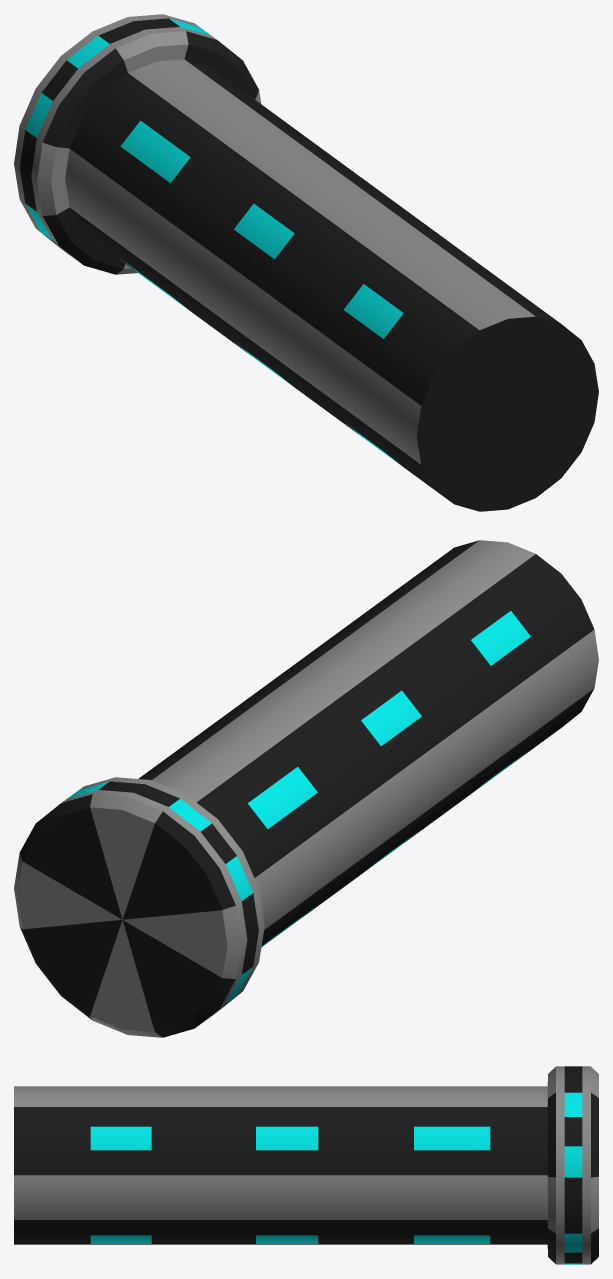
Rendered from pipe straight (1).fbx.
3 renders of one model, top to bottom at view 1: azimuth 30°, elevation 25°; view 2: azimuth 150°, elevation 25°; view 3: azimuth 270°, elevation 25°, orthographic. The views are drawn at different scales.
Parts seen in each view (by area): view 1: pCylinder1; view 2: pCylinder1; view 3: pCylinder1.
Part boxes in pixels (<box>): pCylinder1: <box>14,14,598,511</box>; pCylinder1: <box>14,540,598,1037</box>; pCylinder1: <box>14,1066,598,1264</box>.
Size of the model in its own units: 11.48 by 11.48 by 33.65.
